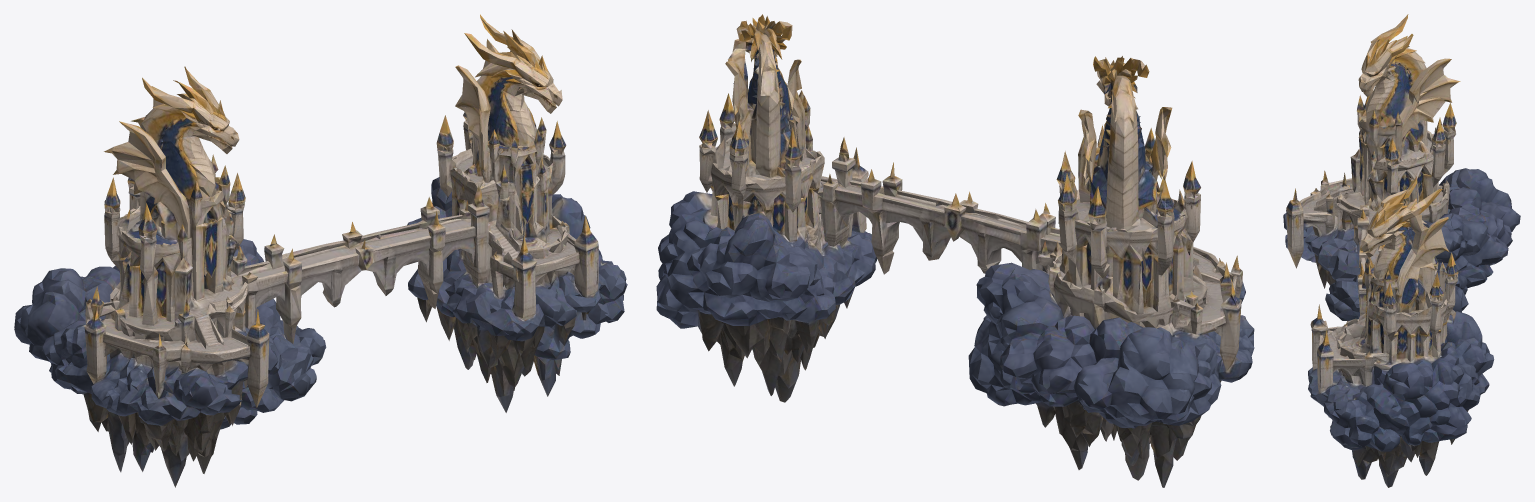
The model's file is bridge.glb.
The picture shows the model from 3 angles, left to right: view 1: azimuth 30°, elevation 25°; view 2: azimuth 150°, elevation 25°; view 3: azimuth 270°, elevation 25°; orthographic projection. The views are drawn at different scales.
Visible parts, largest first — view 1: output_unwrapped; view 2: output_unwrapped; view 3: output_unwrapped.
Boxes of the visible parts, bbox=[...] form: output_unwrapped: bbox=[14, 14, 627, 487]; output_unwrapped: bbox=[656, 14, 1254, 487]; output_unwrapped: bbox=[1283, 14, 1520, 487].
Size of the model in its own units: 1.9 by 1.4 by 0.9025.
Materials: 1 (1 with a texture image).
